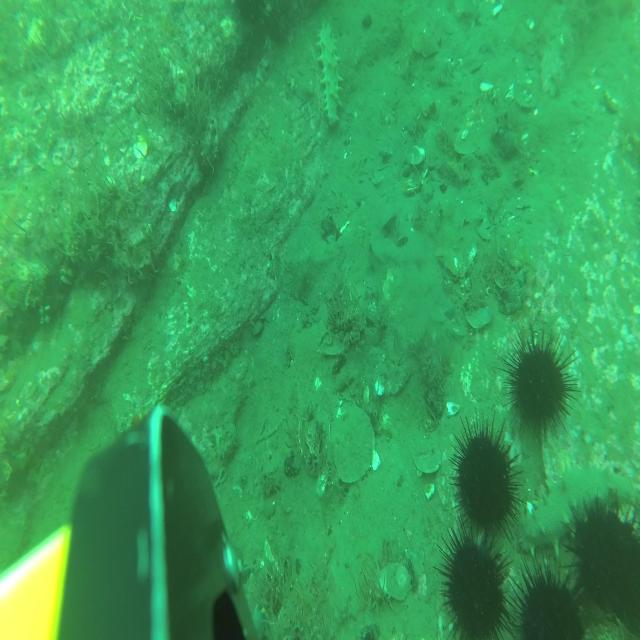echinus: (448, 410, 527, 546), (433, 514, 513, 640), (500, 323, 581, 439), (561, 493, 632, 613), (507, 562, 589, 640), (616, 535, 640, 631), (232, 0, 268, 32)
holothurian: (518, 464, 638, 558), (316, 15, 344, 128)
scallop: (334, 406, 375, 485), (379, 563, 412, 601), (412, 26, 442, 58), (414, 449, 442, 475)
